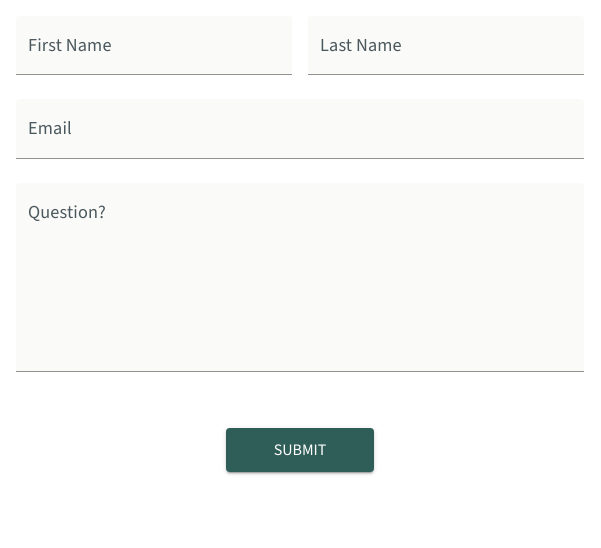
Scenario: when Formspree is configured › surfaces a message for an unrecognised server error
The image size is (601, 548).
Type "James" into the field labelled "First Name" at [154, 46], box [16,16,292,75]
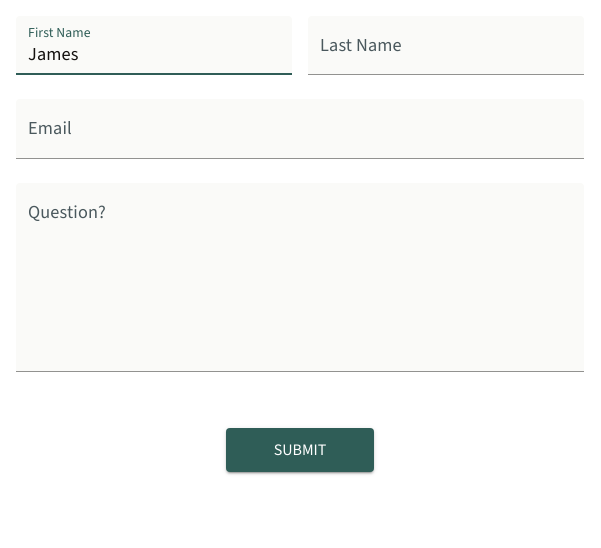
Type "Hurley" into the field labelled "Last Name" at [446, 46], box [308,16,584,75]
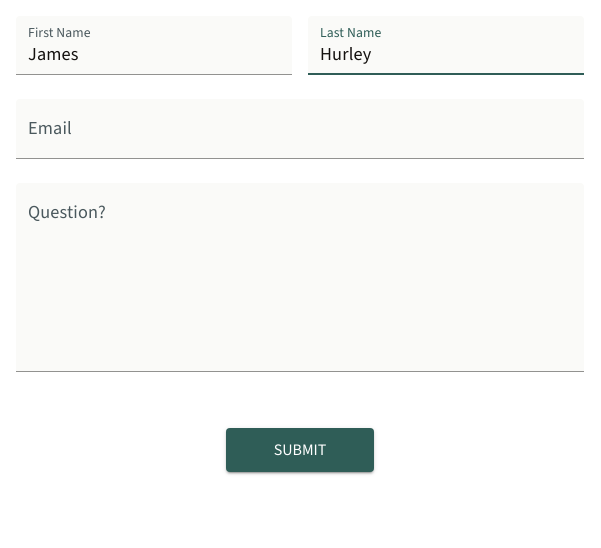
Type "james@example.com" into the field labelled "Email" at [300, 129], box [16,99,584,159]
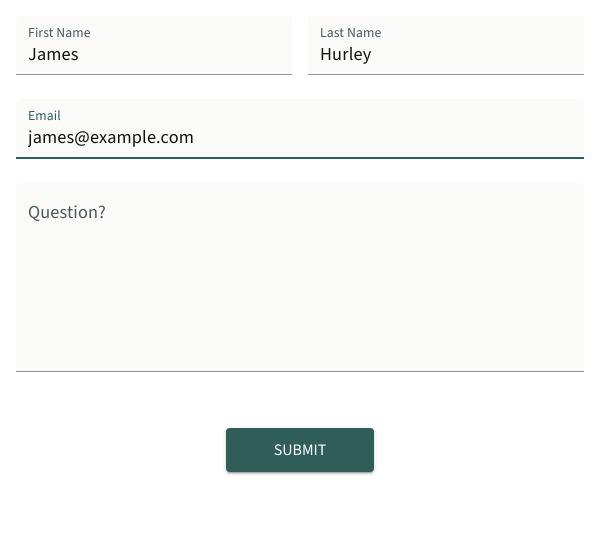
Type "This message is comfortably longer than twenty characters." into the text box labelled "Question?" at [300, 286], box [28,208,572,364]
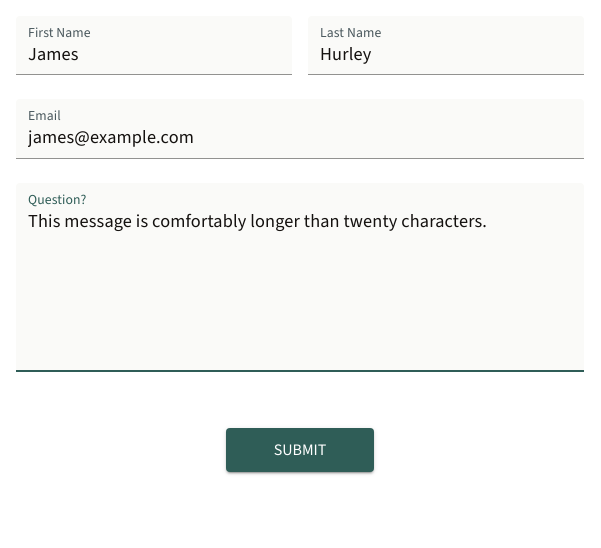
Click the button "Submit" at [300, 450], box [226,428,374,472]
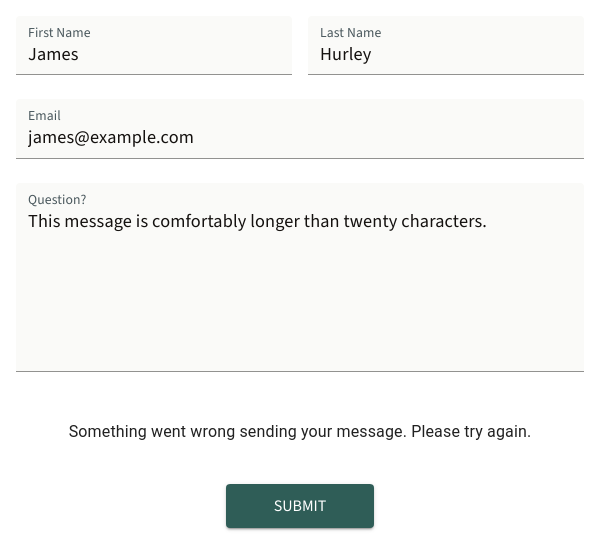
Expected: the message "Something went wrong sending your message. Please try again." is shown, [69,422,531,441]
